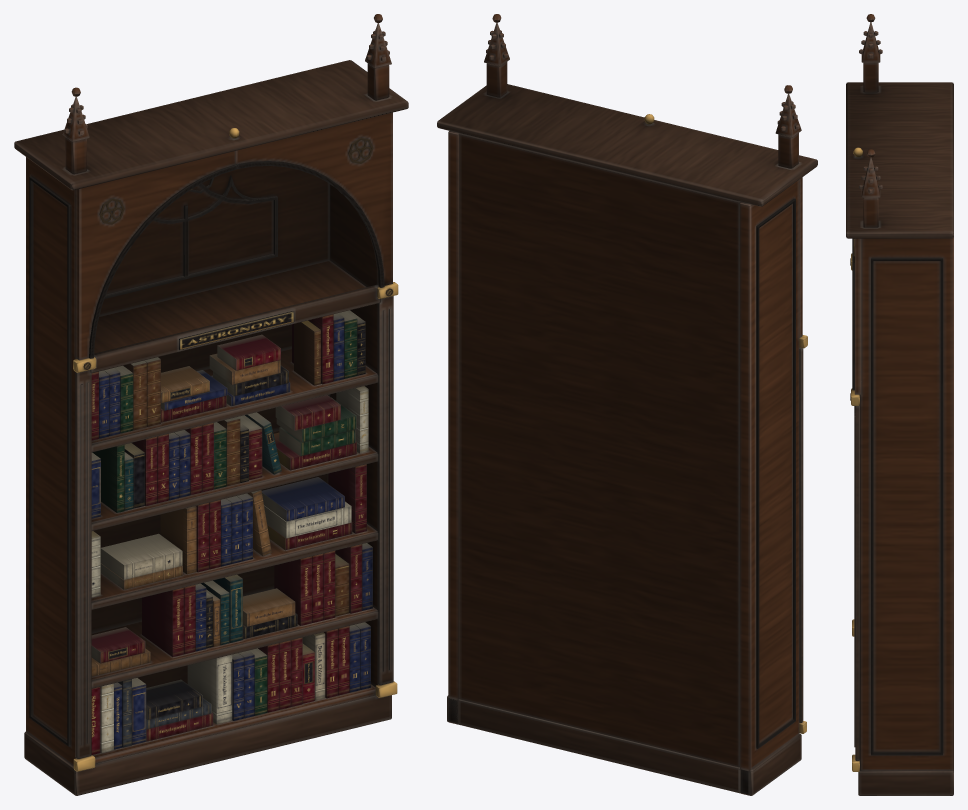
File: LibShelfArched.fbx
3 views of the same model, side by side, from view 1: azimuth 30°, elevation 25°; view 2: azimuth 150°, elevation 25°; view 3: azimuth 270°, elevation 25° (orthographic). The views are drawn at different scales.
Parts seen in each view (by area): view 1: LibShelfArched; view 2: LibShelfArched; view 3: LibShelfArched.
Part boxes in pixels (left/top/right/bottom): LibShelfArched: left=14, top=14, right=408, bottom=795; LibShelfArched: left=437, top=14, right=817, bottom=795; LibShelfArched: left=846, top=14, right=953, bottom=795.
Size of the model in its own units: 646 by 1284 by 195.
